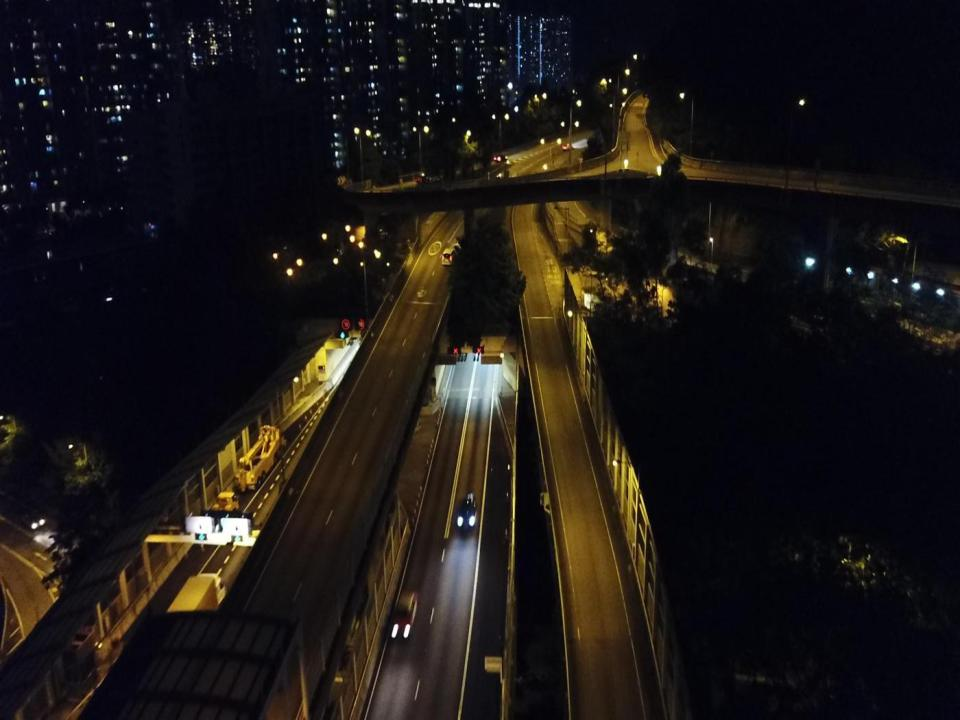car: (390, 587, 420, 644), (457, 492, 478, 532), (17, 509, 47, 530), (492, 152, 508, 164), (414, 174, 432, 184), (560, 142, 574, 152)
truck: (163, 571, 226, 649), (192, 492, 239, 551)
van: (440, 246, 456, 267)
